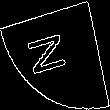N_E: (31, 29, 79, 81)
